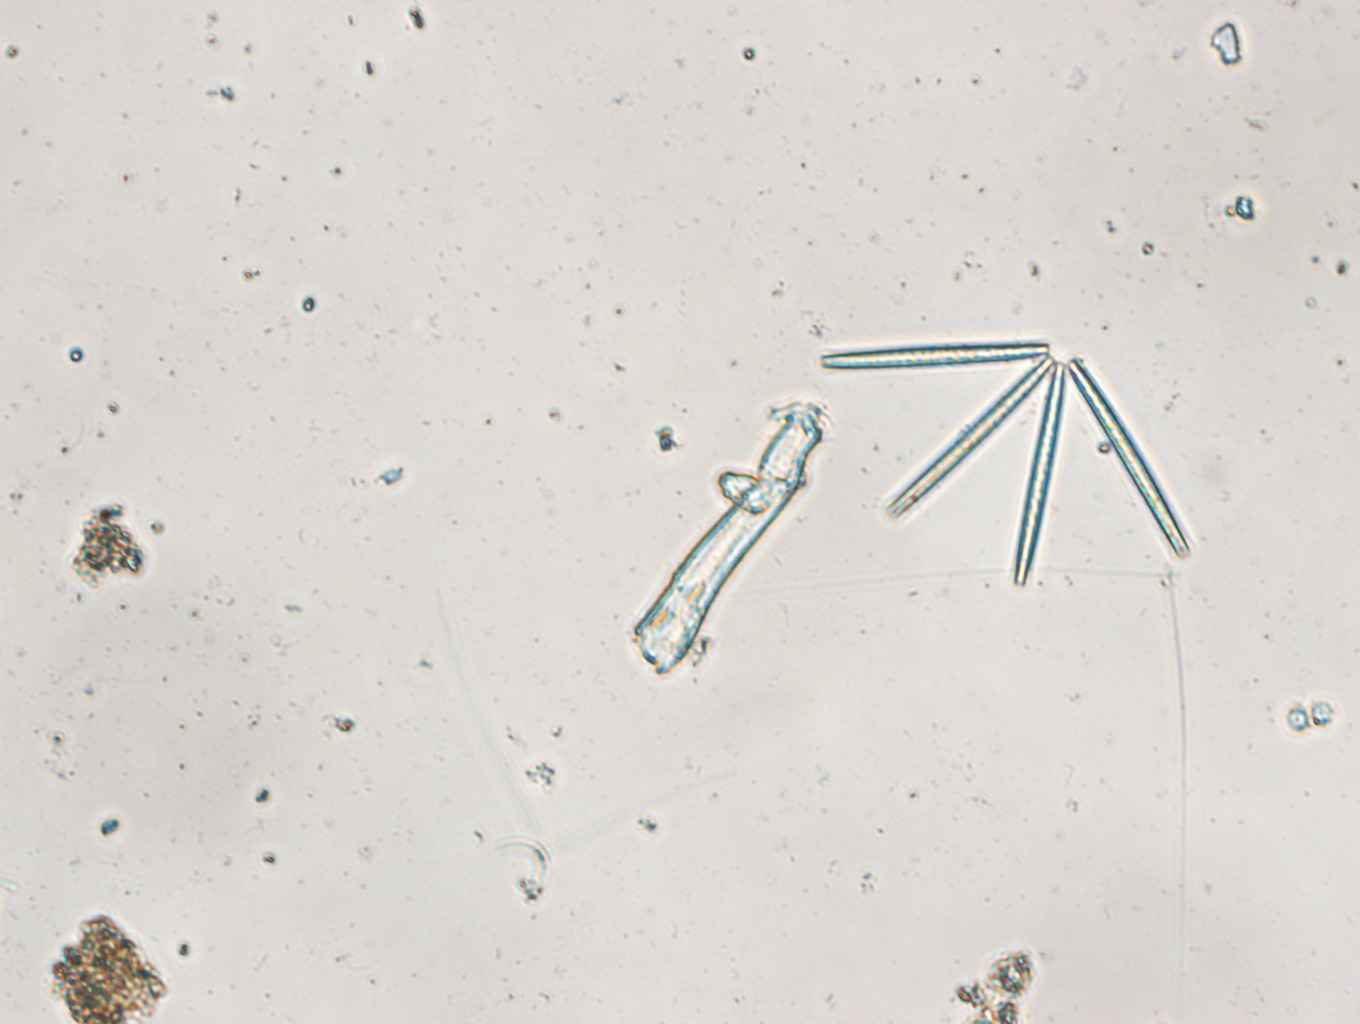thalassionema frauenfeldii: (816, 316, 1208, 589)
